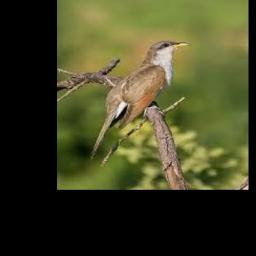Cuckoo: (91, 41, 190, 159)
